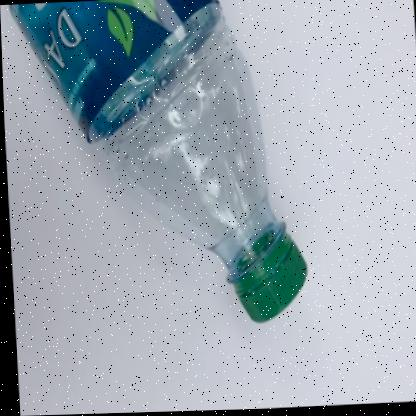Plastic: (5, 0, 303, 323)
